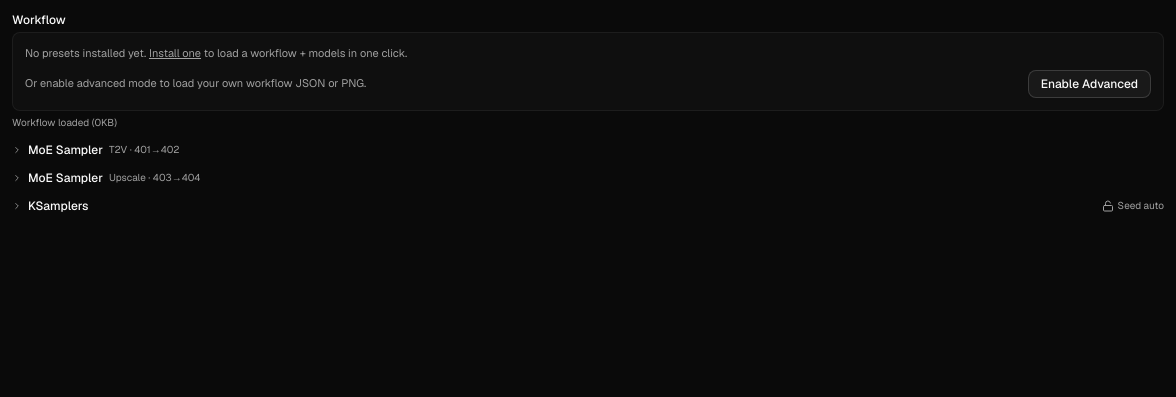
it: ComfyGen MoE Sampler panel › renders a MoE Sampler section per detected pair with Total/Split inputs
This screenshot has width=1176, height=397.
Check: the text "MoE Sampler" is shown 2 times, box top-left (28, 142), bottom-right (103, 158); top-left (28, 170), bottom-right (103, 186)
Check: the text "T2V · 401→402" is shown, box top-left (109, 142), bottom-right (180, 157)
Click the button "MoE Sampler T2V · 401→402". click: point(96, 150)
box: top-left (12, 142), bottom-right (180, 158)
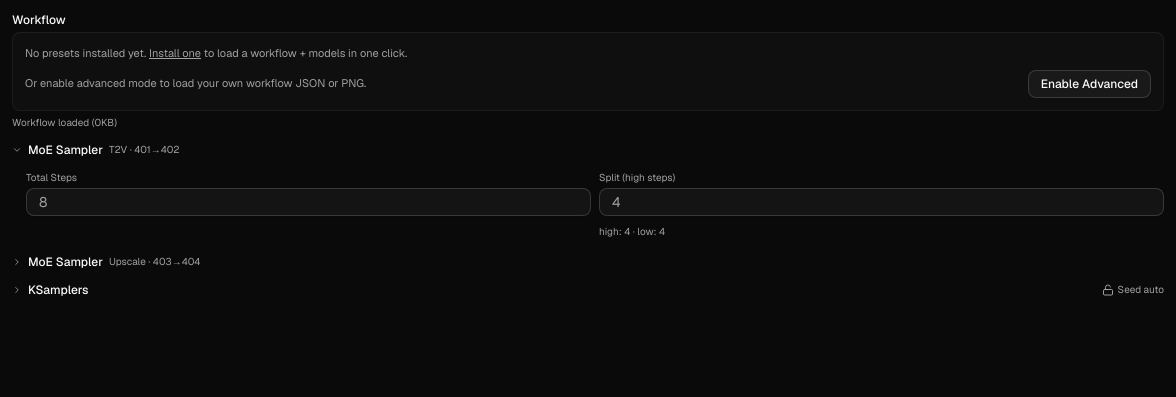
Click the button "MoE Sampler Upscale · 403→404". click: point(106, 262)
box: top-left (12, 254), bottom-right (200, 270)
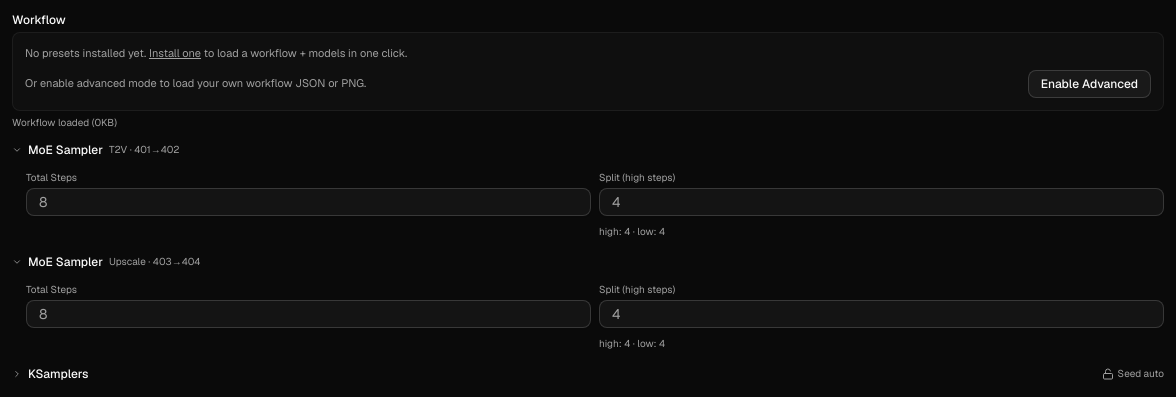
Check: the text "Total Steps" is shown 2 times, box top-left (26, 170), bottom-right (77, 184); top-left (26, 282), bottom-right (77, 296)
Check: the text "Split (high steps)" is shown 2 times, box top-left (599, 170), bottom-right (675, 184); top-left (599, 282), bottom-right (675, 296)
